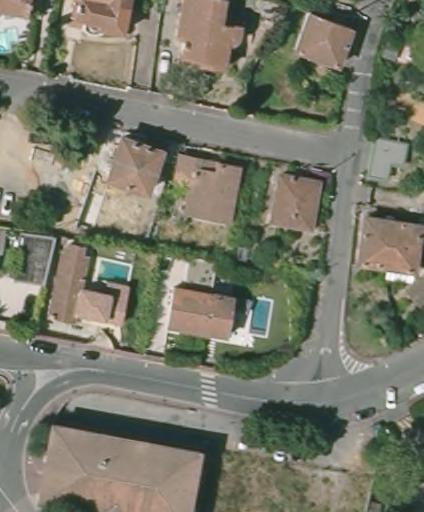pool: (85, 252, 138, 290), (244, 296, 274, 341), (0, 24, 28, 59)
